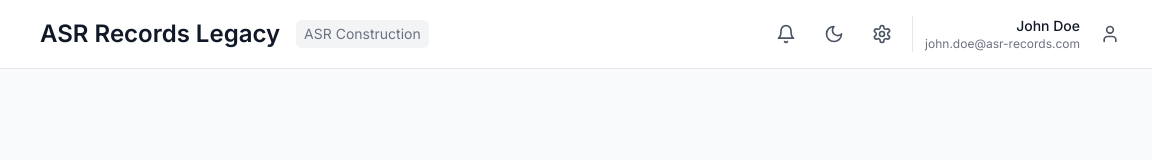
Scenario: Header › closes user menu dropdown on Escape key
Click the button named "user menu".
click(1110, 34)  # box left=1092, top=16, right=1128, bottom=52
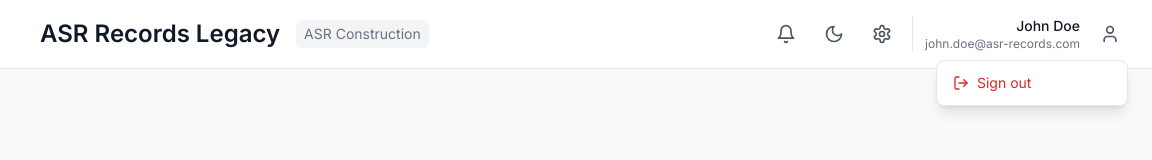
Now the text "Sign out" is shown, box left=977, top=73, right=1031, bottom=93
Press Escape
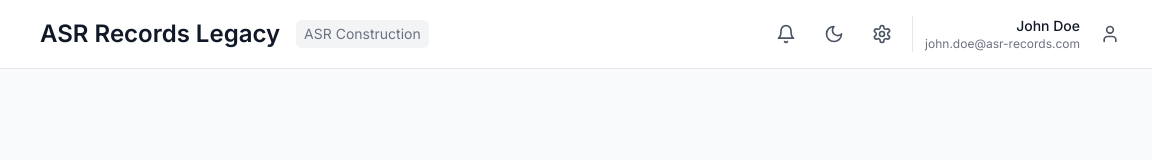
Now the button "Sign out" is gone
